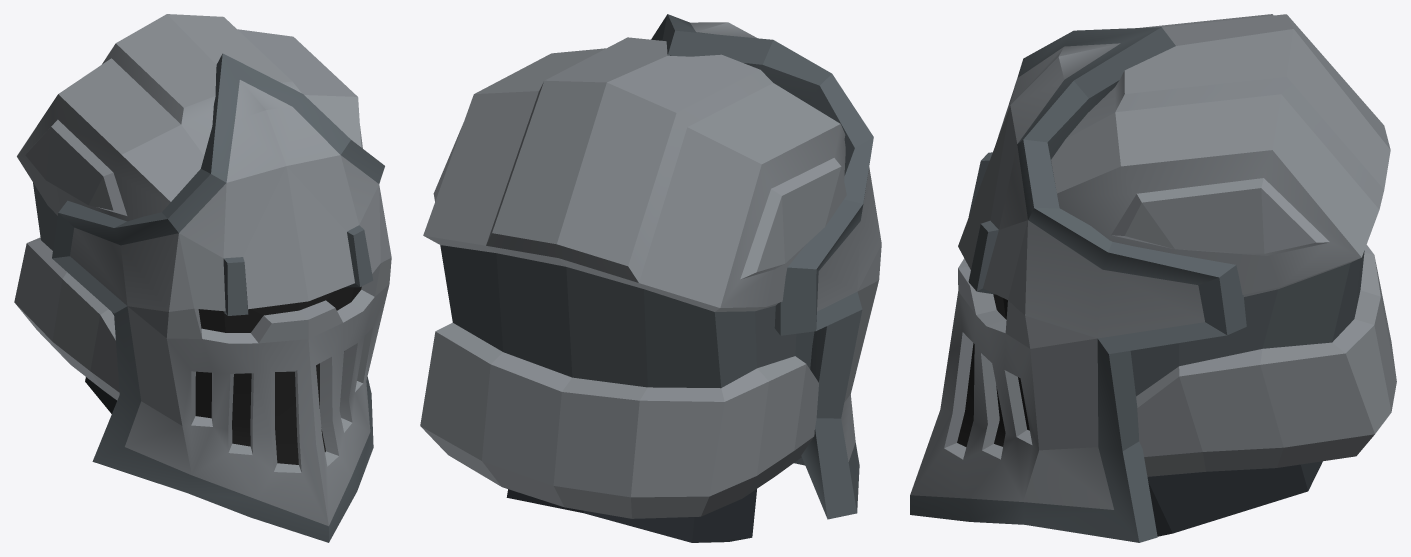
The model's file is Chr_Head_No_Elements_Male_06_Static.fbx.
3 renders of one model, left to right at view 1: azimuth 30°, elevation 25°; view 2: azimuth 150°, elevation 25°; view 3: azimuth 270°, elevation 25°, orthographic. The views are drawn at different scales.
Visible parts, largest first — view 1: Chr_Head_No_Elements_Male_06_Static; view 2: Chr_Head_No_Elements_Male_06_Static; view 3: Chr_Head_No_Elements_Male_06_Static.
Part boxes in pixels (<box>): Chr_Head_No_Elements_Male_06_Static: <box>14,14,391,542</box>; Chr_Head_No_Elements_Male_06_Static: <box>420,14,881,542</box>; Chr_Head_No_Elements_Male_06_Static: <box>910,14,1396,542</box>.
Bounding box in the file's own units: 0.2623 × 0.3679 × 0.3265.
